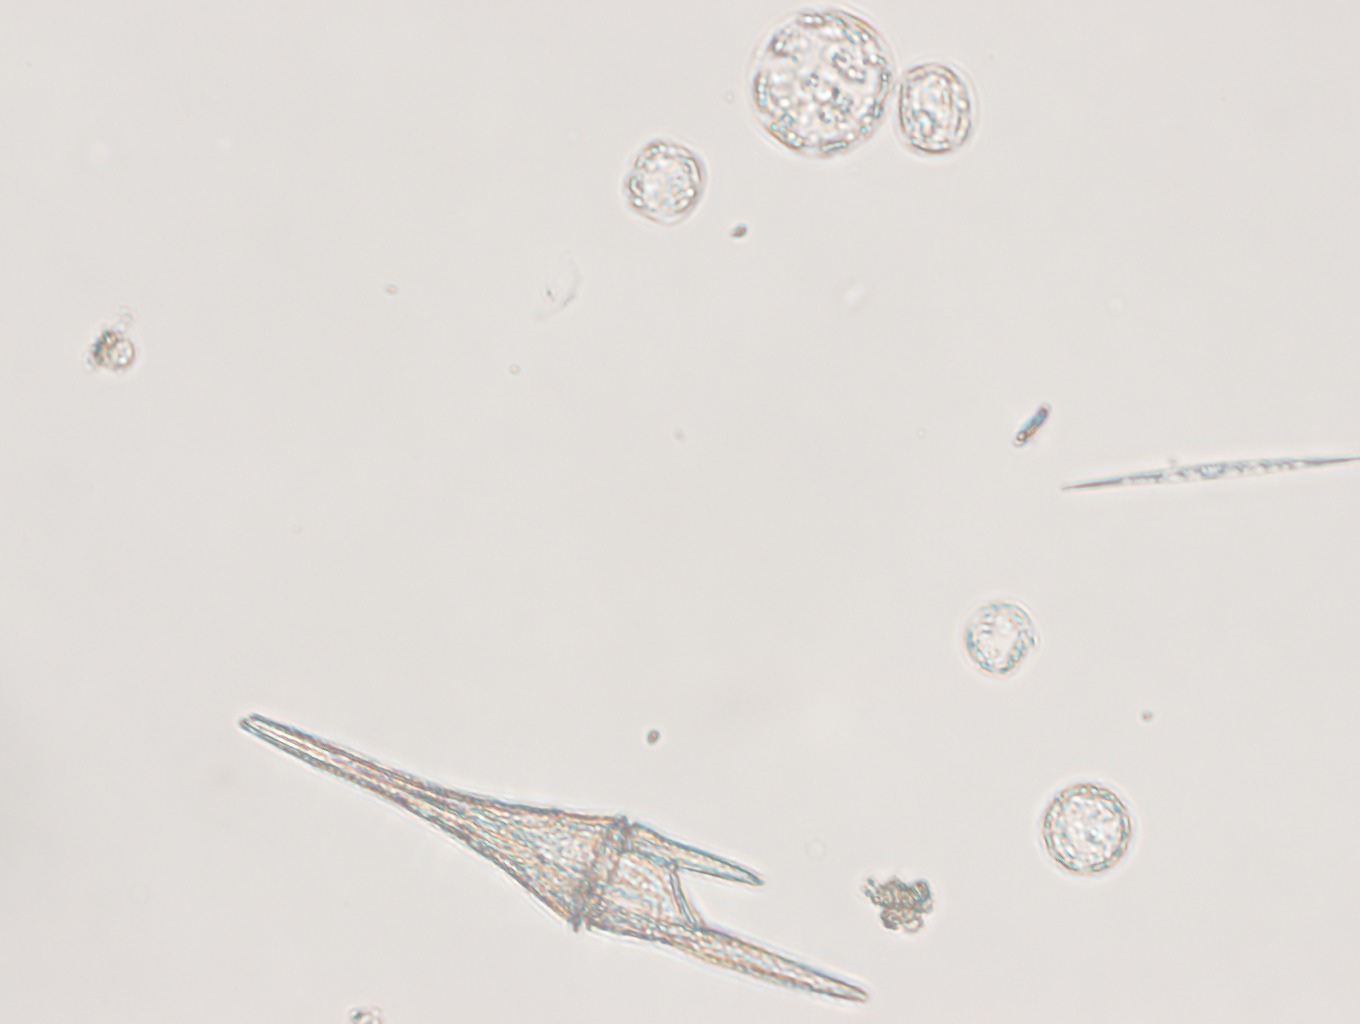ceratium furca: (226, 708, 870, 1011)
